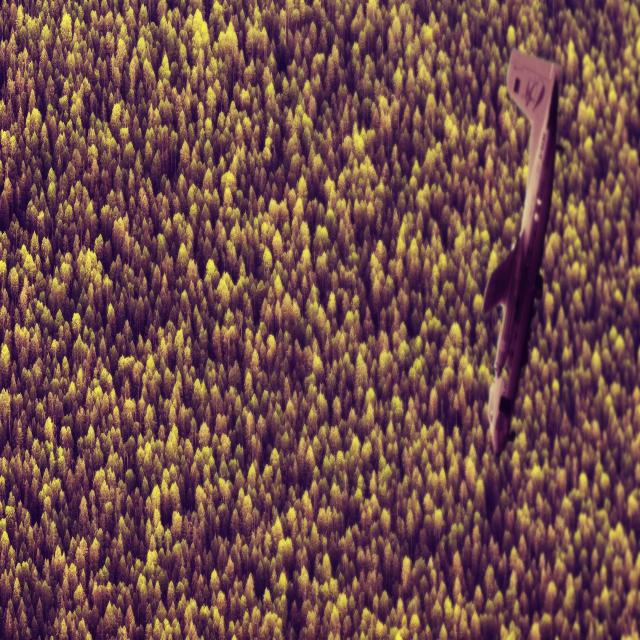airplane: (482, 48, 560, 456)
